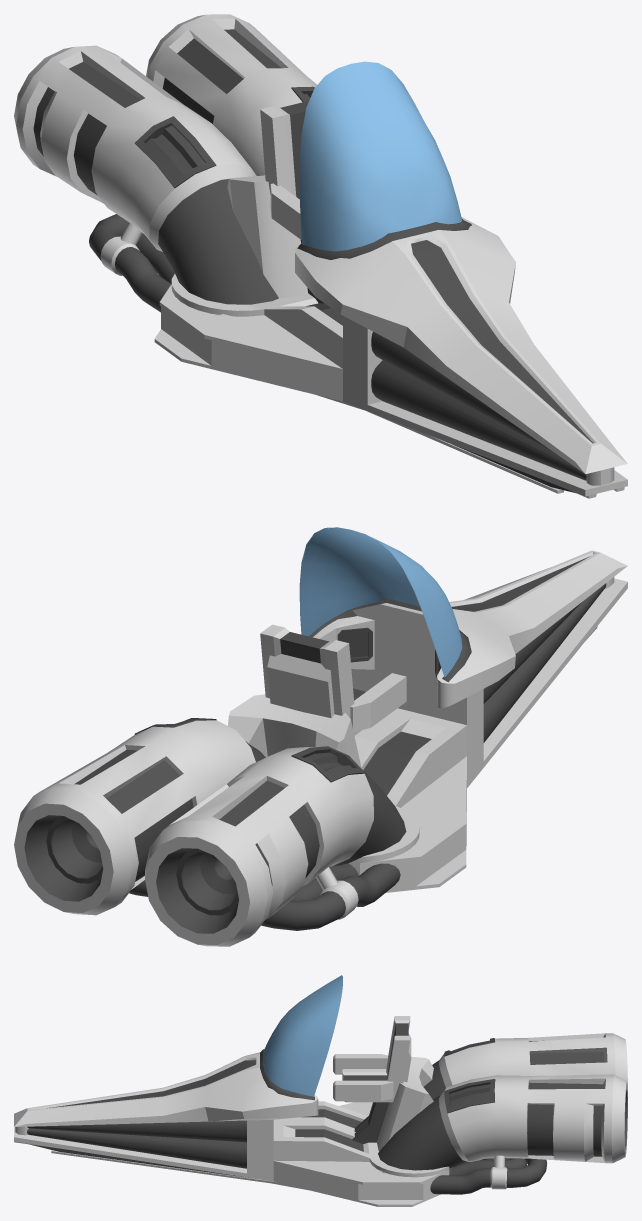
3 views of the same model, one above another, from view 1: azimuth 30°, elevation 25°; view 2: azimuth 150°, elevation 25°; view 3: azimuth 270°, elevation 25° (orthographic). The views are drawn at different scales.
Parts seen in each view (by area): view 1: SB-1; view 2: SB-1; view 3: SB-1.
Part boxes in pixels (x1=…): SB-1: x1=14, y1=14, x2=627, y2=498; SB-1: x1=14, y1=527, x2=627, y2=946; SB-1: x1=14, y1=975, x2=627, y2=1206.
Bounding box in the file's own units: 1.45 × 1.46 × 4.21.
